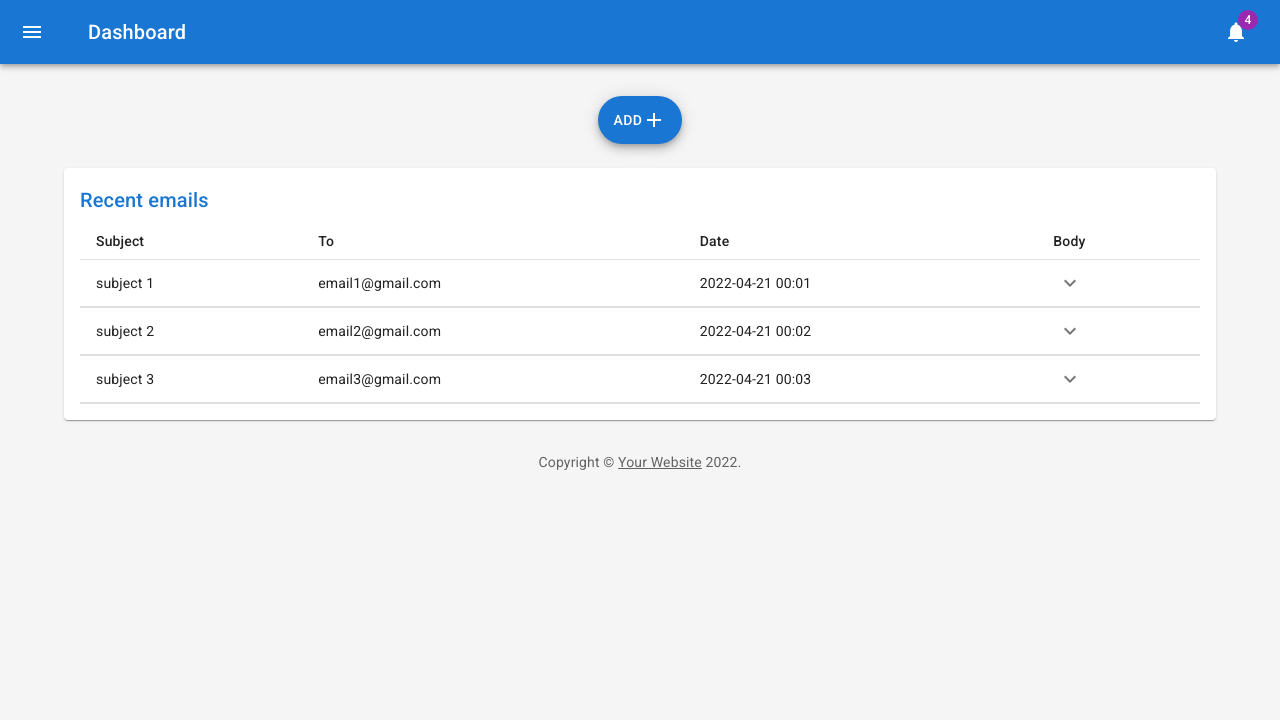
Test case: Send email dialog › can open send dialog
The width and height of the screenshot is (1280, 720).
Click the button with test id "test-openSendEmailDialog". click: (641, 120)
box: [598,96,683,144]
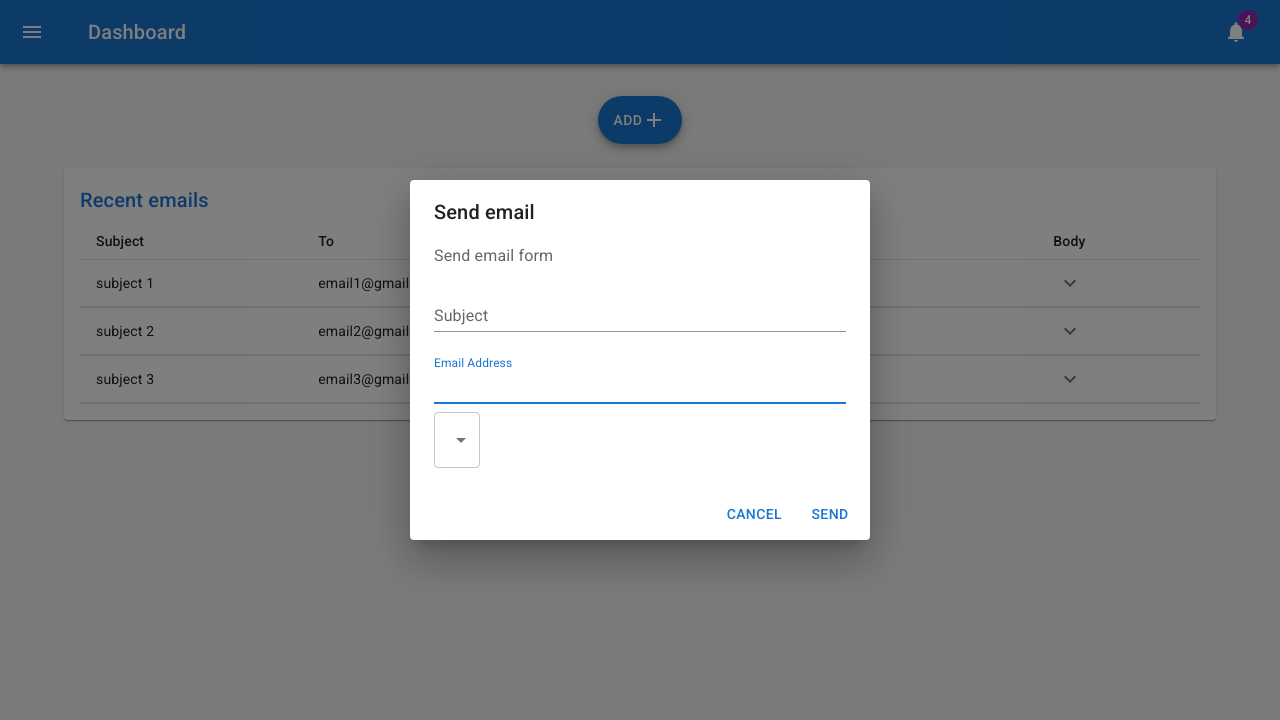
Expected: the field with id "subject" is shown, [434,300,846,332]
Expected: the field with id "toEmail" is shown, [434,372,846,404]
Expected: the dropdown with id "template" is shown, [434,412,480,468]
